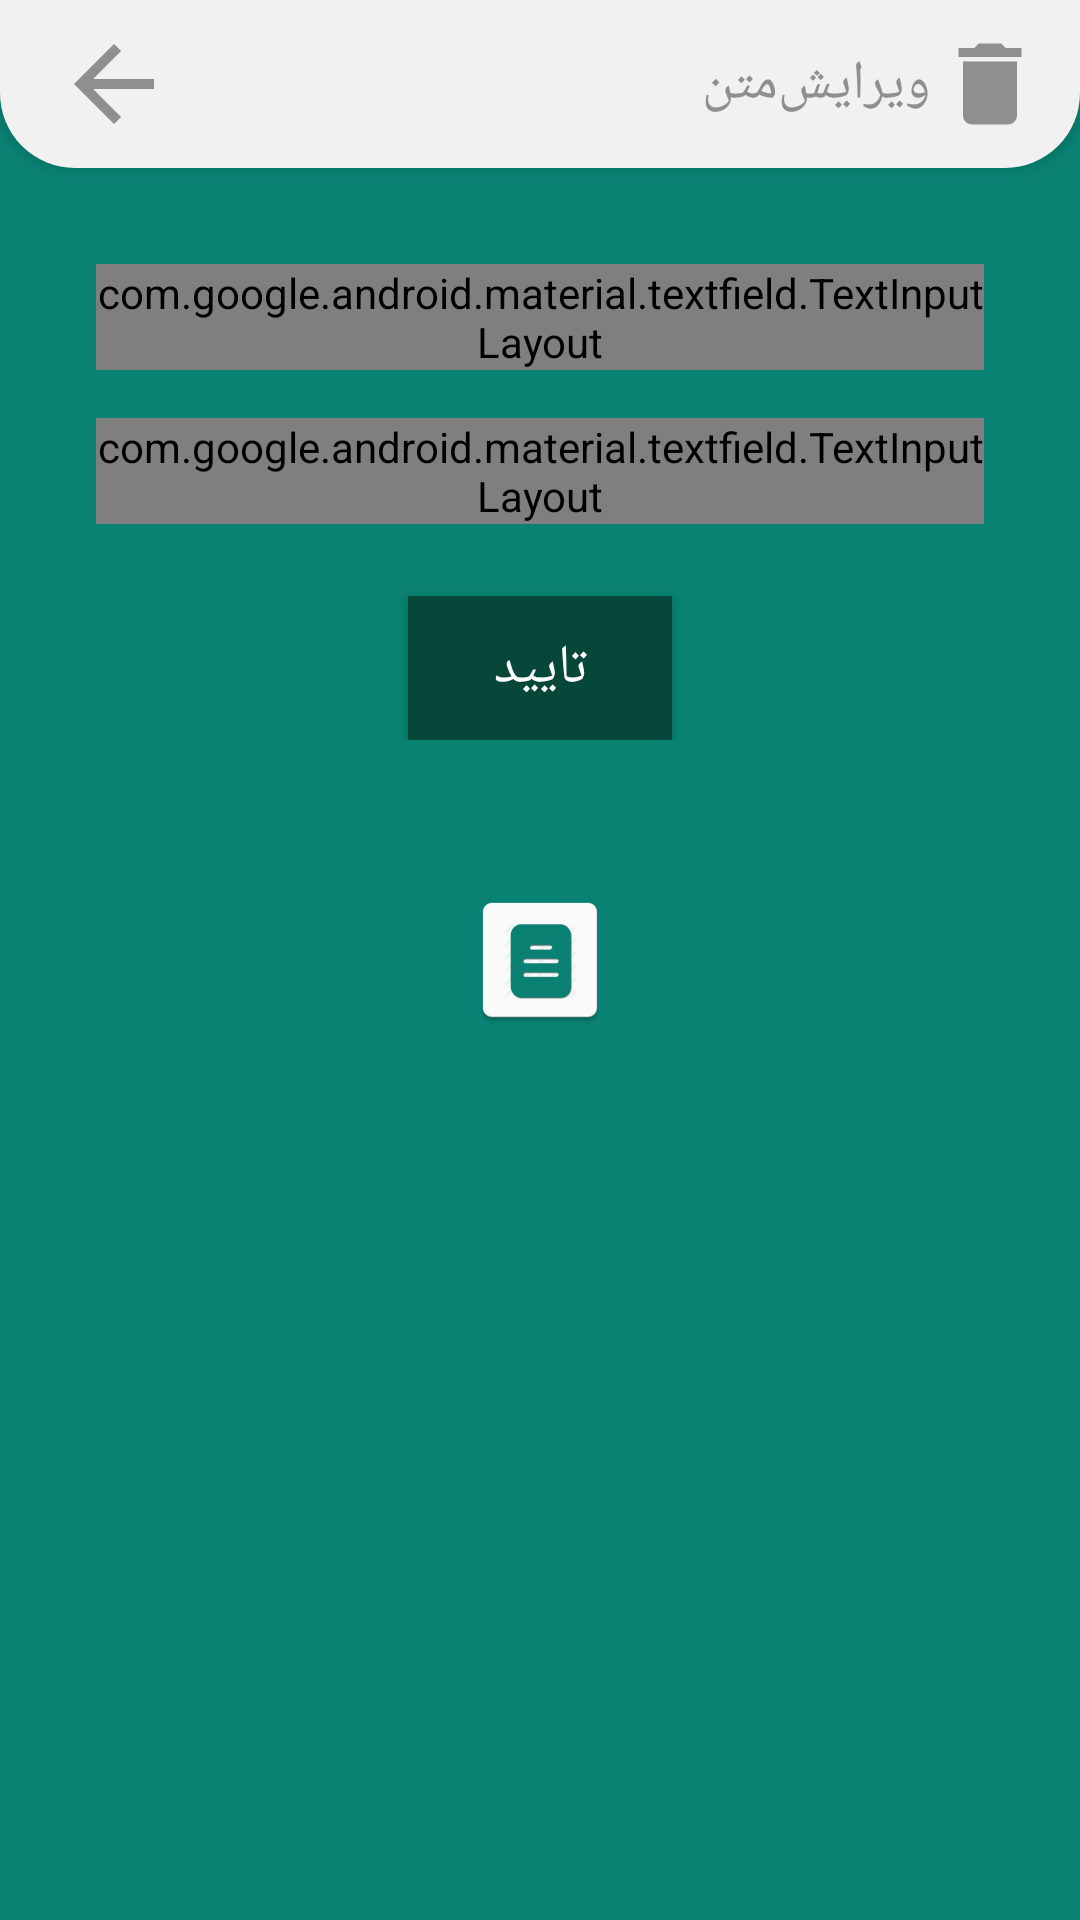

Named icons in this screenshot (1080 x 1920) and their centers, (x,y):
arrow back: (114,84)
delete: (990,84)
